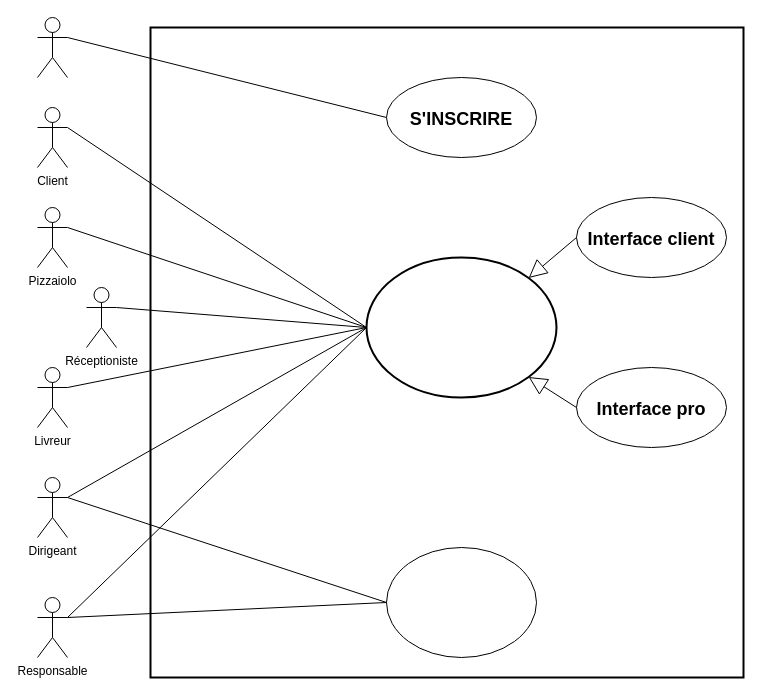
Some shapes in this 761 by 696 pixel diagram are drawn without their labels. The shapes that lost their labels are listed below. From the top down, each one's centre as x and y in pixels, then its label:
(52,47): Visiteur
(461,327): Se connecter.
(461,602): Créer un compte pro
